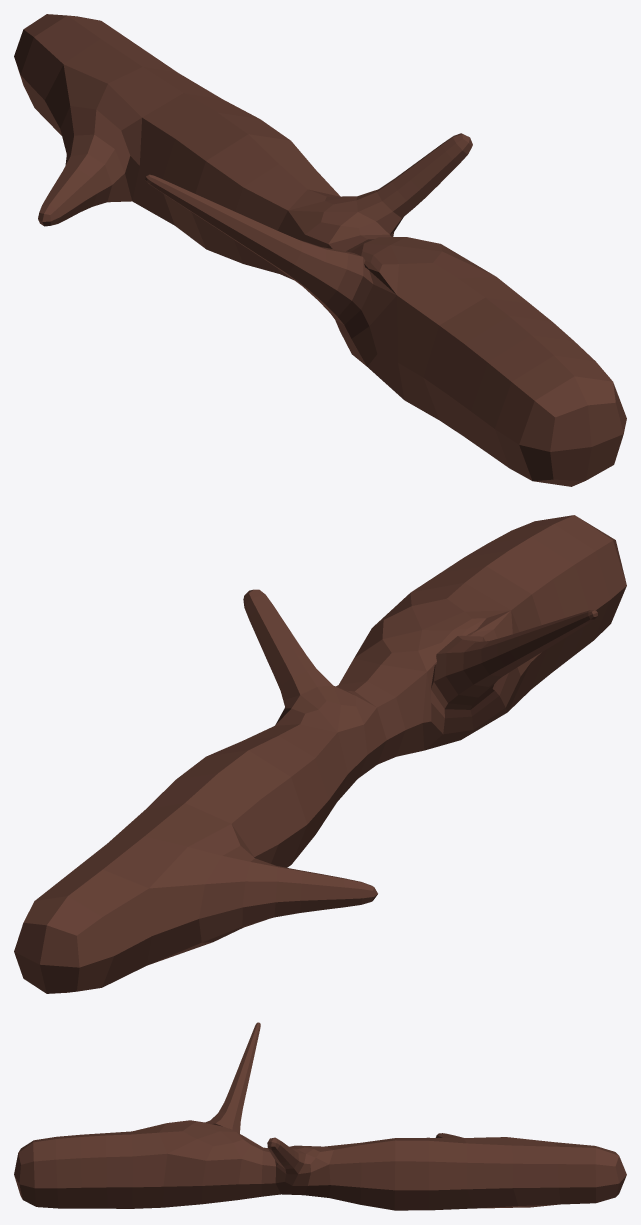
Rendered from Trunk2.fbx.
3 views of the same model, one above another, from view 1: azimuth 30°, elevation 25°; view 2: azimuth 150°, elevation 25°; view 3: azimuth 270°, elevation 25° (orthographic). The views are drawn at different scales.
Visible parts, largest first — view 1: Plane.001; view 2: Plane.001; view 3: Plane.001.
Boxes of the visible parts, x1,y1,x2,y2 form: Plane.001: [14, 14, 626, 486]; Plane.001: [14, 515, 626, 993]; Plane.001: [14, 1022, 626, 1210].
Size of the model in its own units: 175 by 111 by 493.
